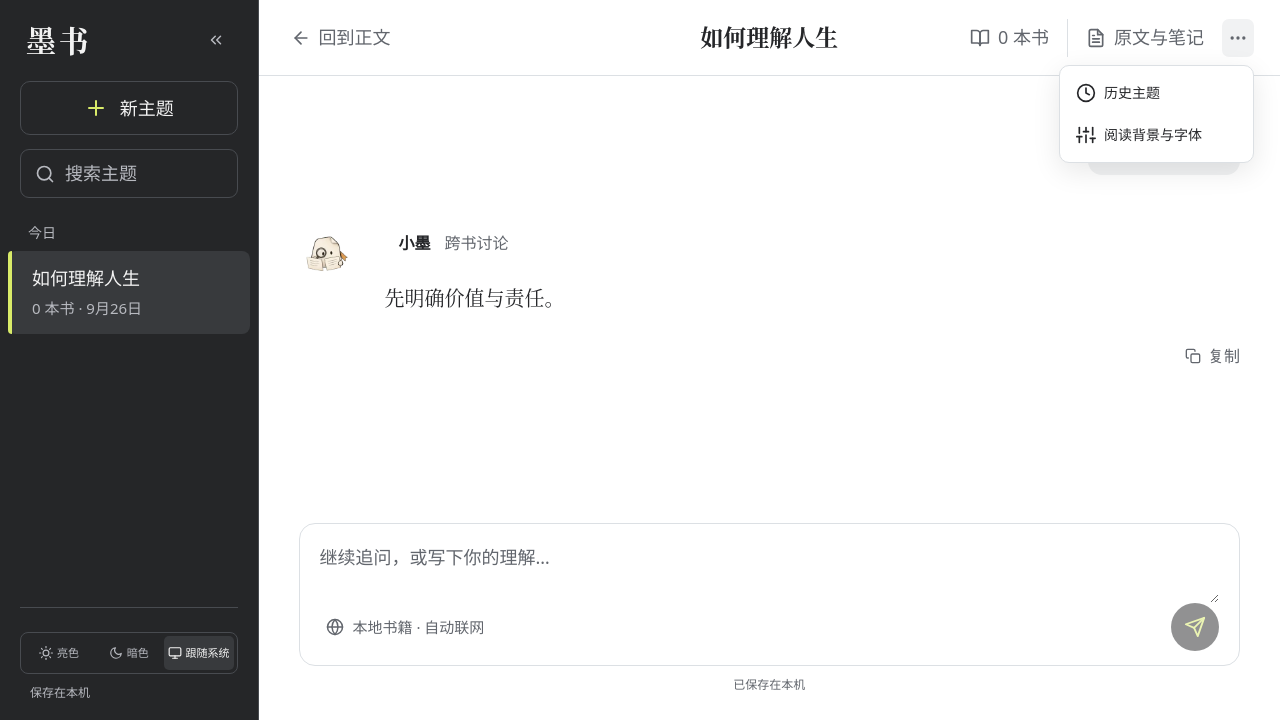
Test: 主题会话本地可靠性 › restores history focus to the visible menu summary after a pointer click
Expected: the text box labelled "继续追问" is shown, [320,542,1219,603]
Step 1. Click the button "历史主题" → (1156,92), box [1066,72,1247,114]
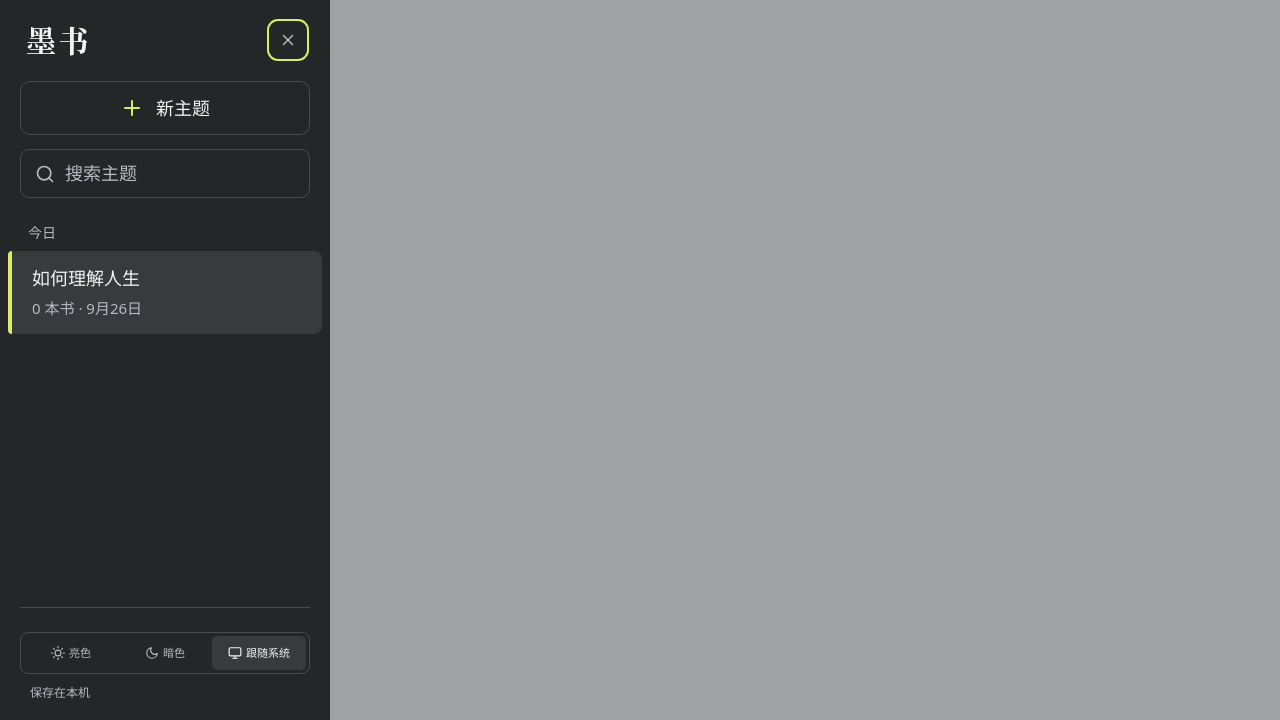
Step 2. Press Escape in the button named "关闭主题历史", box [272,24,304,56]
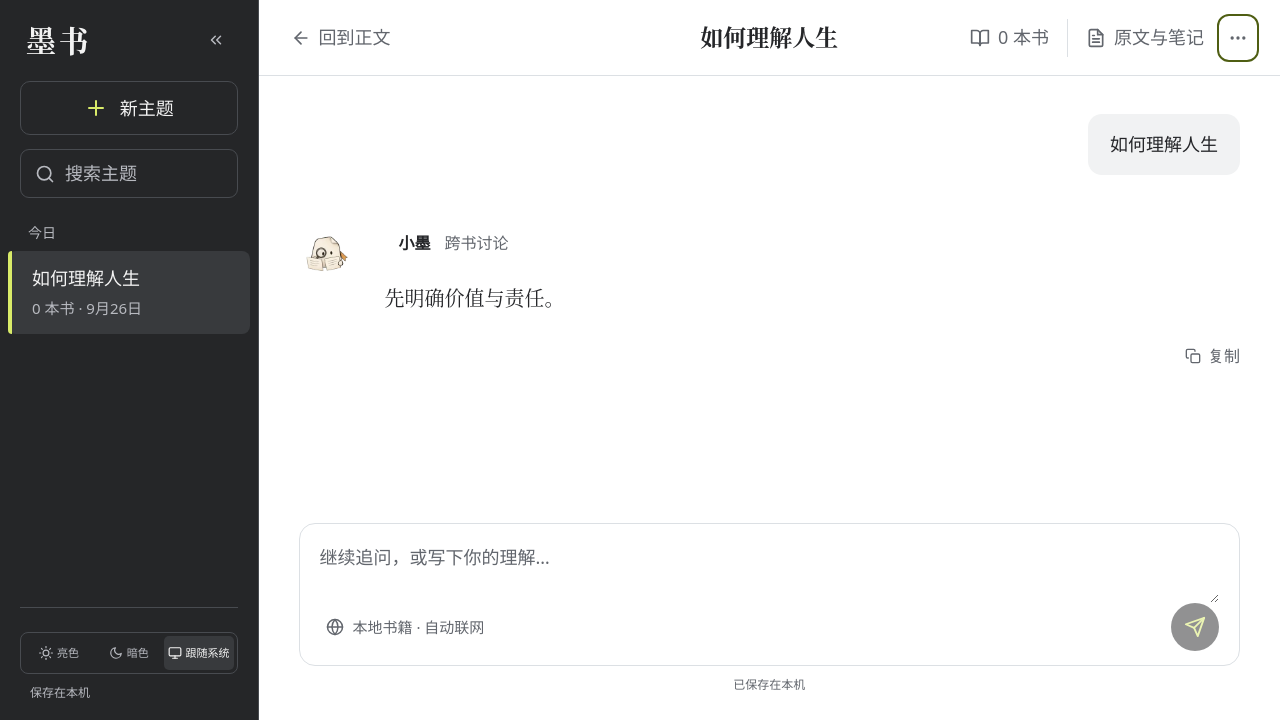
Expected: the dialog is gone
